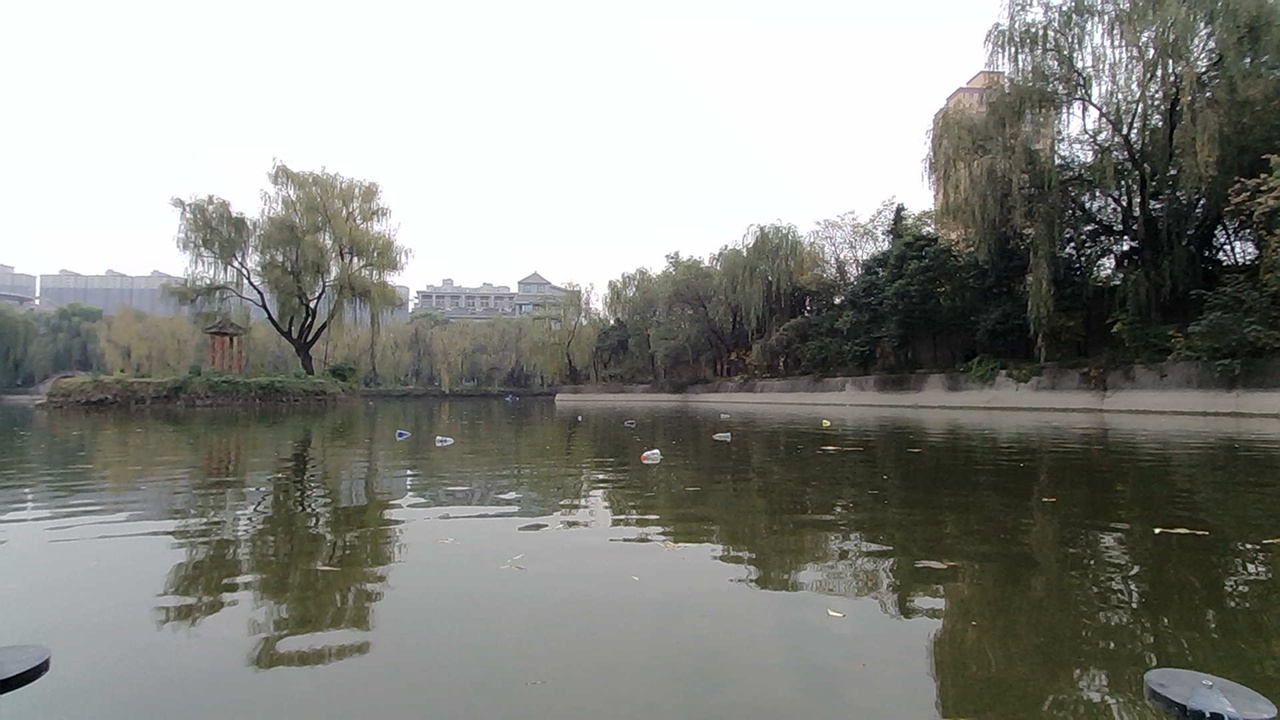bottle: (705, 415, 742, 448), (426, 425, 457, 453), (567, 405, 594, 431), (637, 445, 667, 468), (620, 406, 646, 431), (397, 424, 420, 450), (816, 414, 838, 438)
